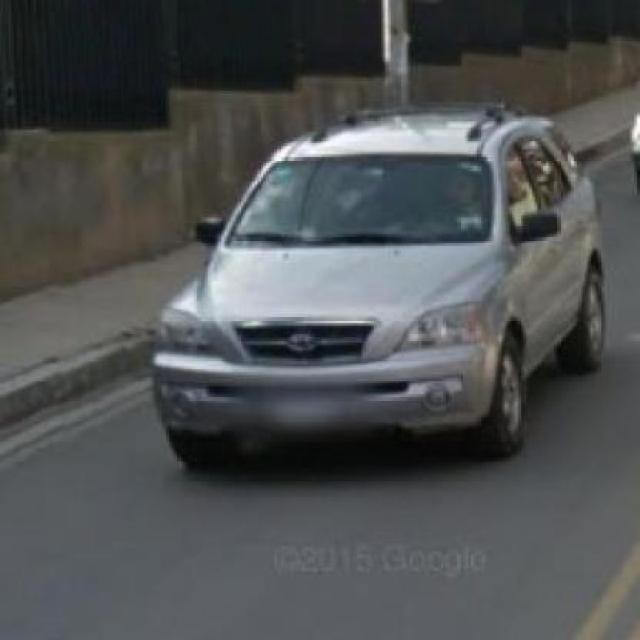car: (150, 102, 610, 485)
